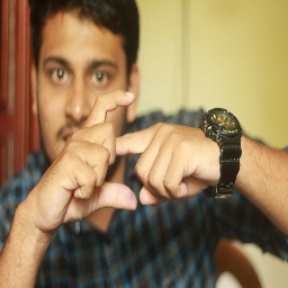E: (71, 88, 164, 216)
